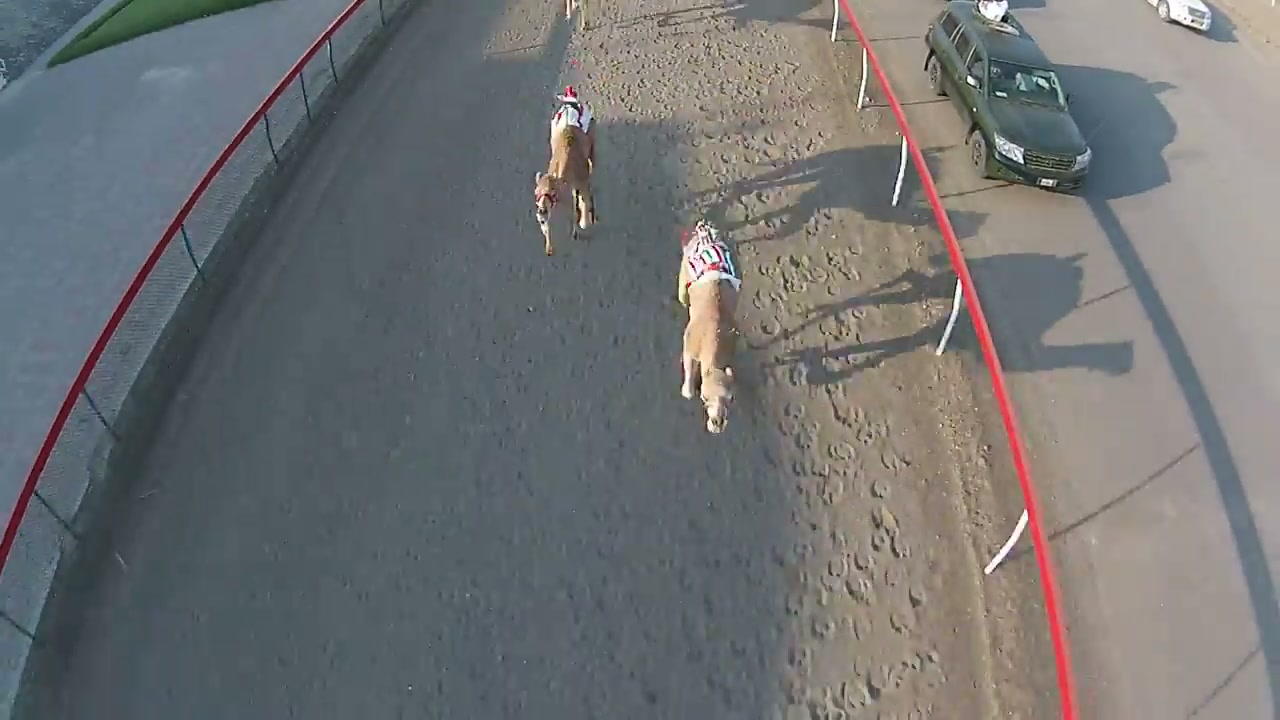animal_foot_print: (744, 131, 979, 715)
